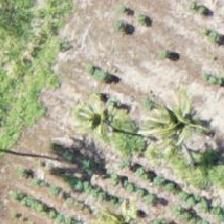coconut_tree: (126, 88, 216, 178), (60, 74, 150, 164)
